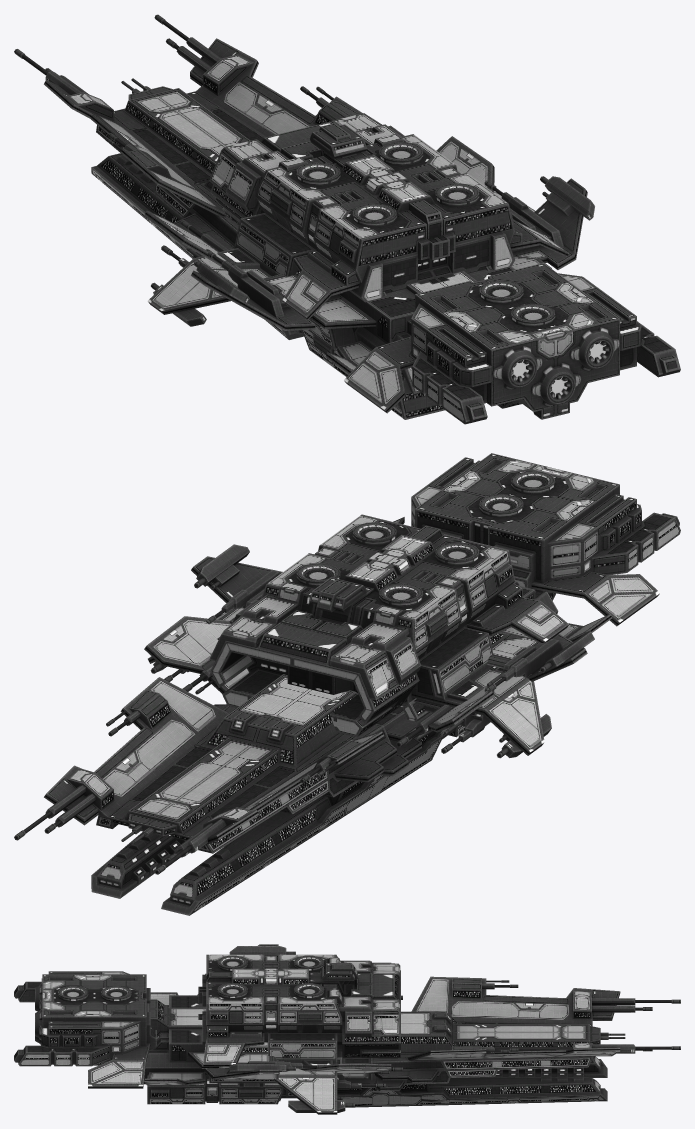
File: mammalian_01_LoGHFlagship_01.obj
3 renders of one model, top to bottom at view 1: azimuth 30°, elevation 25°; view 2: azimuth 150°, elevation 25°; view 3: azimuth 270°, elevation 25°, orthographic. The views are drawn at different scales.
Parts seen in each view (by area): view 1: Mammalian_Titan_Mid_LPShape, Mammalian_Titan_Stern_LPShape, Mammalian_Titan_Bow_LPShape, Mammalian_Titan_Mid_LPShape.001; view 2: Mammalian_Titan_Bow_LPShape, Mammalian_Titan_Mid_LPShape, Mammalian_Titan_Stern_LPShape, Mammalian_Titan_Mid_LPShape.001; view 3: Mammalian_Titan_Bow_LPShape, Mammalian_Titan_Mid_LPShape, Mammalian_Titan_Stern_LPShape, Mammalian_Titan_Mid_LPShape.001.
Part boxes in pixels (bbox=[...]): Mammalian_Titan_Mid_LPShape: bbox=[148, 113, 568, 326]; Mammalian_Titan_Stern_LPShape: bbox=[344, 263, 680, 424]; Mammalian_Titan_Bow_LPShape: bbox=[14, 14, 494, 339]; Mammalian_Titan_Mid_LPShape.001: bbox=[191, 176, 594, 419]; Mammalian_Titan_Bow_LPShape: bbox=[14, 616, 494, 915]; Mammalian_Titan_Mid_LPShape: bbox=[148, 514, 568, 758]; Mammalian_Titan_Stern_LPShape: bbox=[393, 453, 680, 626]; Mammalian_Titan_Mid_LPShape.001: bbox=[191, 544, 611, 739]; Mammalian_Titan_Bow_LPShape: bbox=[299, 962, 680, 1107]; Mammalian_Titan_Mid_LPShape: bbox=[198, 954, 400, 1114]; Mammalian_Titan_Stern_LPShape: bbox=[14, 971, 156, 1088]; Mammalian_Titan_Mid_LPShape.001: bbox=[144, 944, 342, 1104].
Size of the model in its own units: 33.38 by 15.37 by 73.95.
